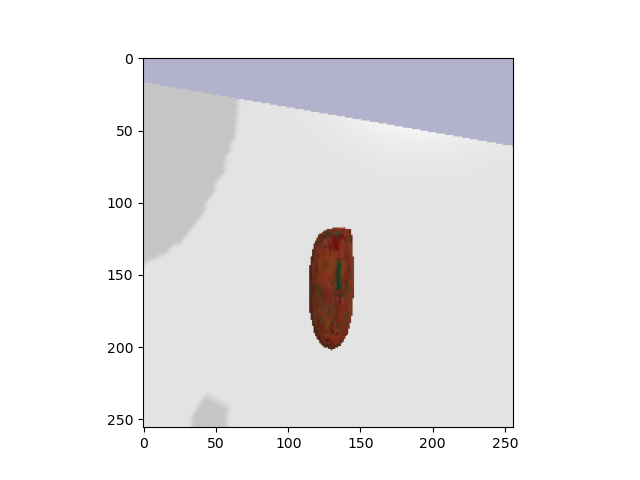v249b387_106: (289, 222, 373, 357)
